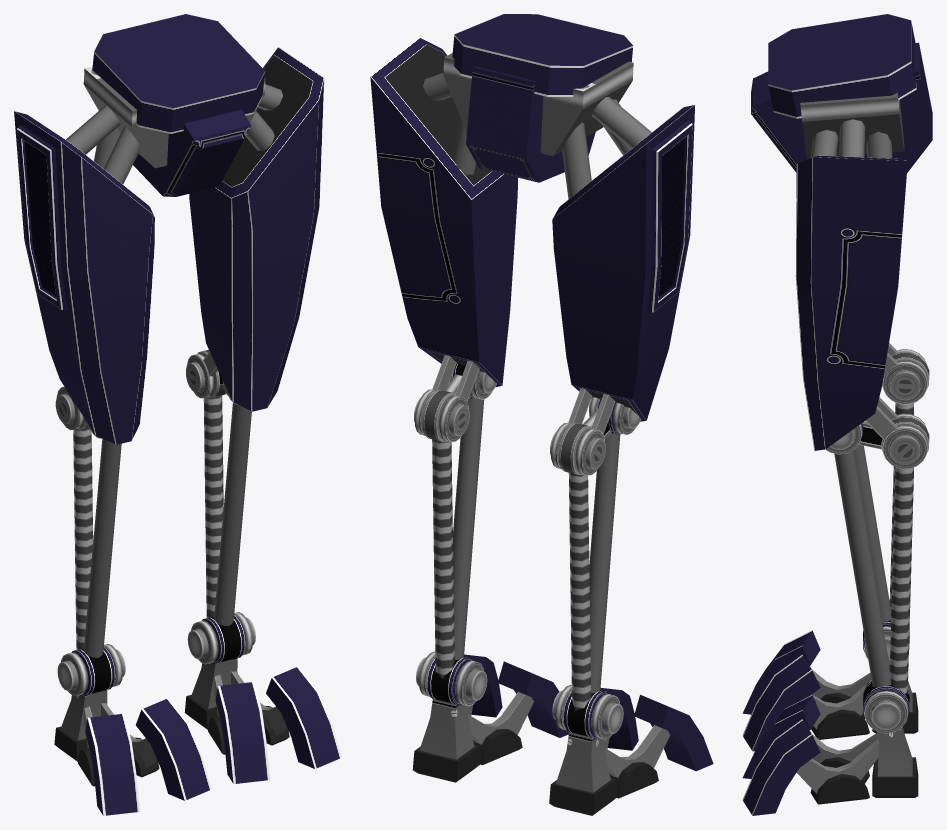
File: legs_a.fbx
3 renders of one model, left to right at view 1: azimuth 30°, elevation 25°; view 2: azimuth 150°, elevation 25°; view 3: azimuth 270°, elevation 25°, orthographic. The views are drawn at different scales.
Visible parts, largest first — view 1: LEGS_A; view 2: LEGS_A; view 3: LEGS_A.
Part boxes in pixels (x1=…): LEGS_A: x1=14, y1=14, x2=341, y2=815; LEGS_A: x1=370, y1=14, x2=713, y2=815; LEGS_A: x1=742, y1=14, x2=932, y2=815.
Bounding box in the file's own units: 37.4 × 93.99 × 22.6.
